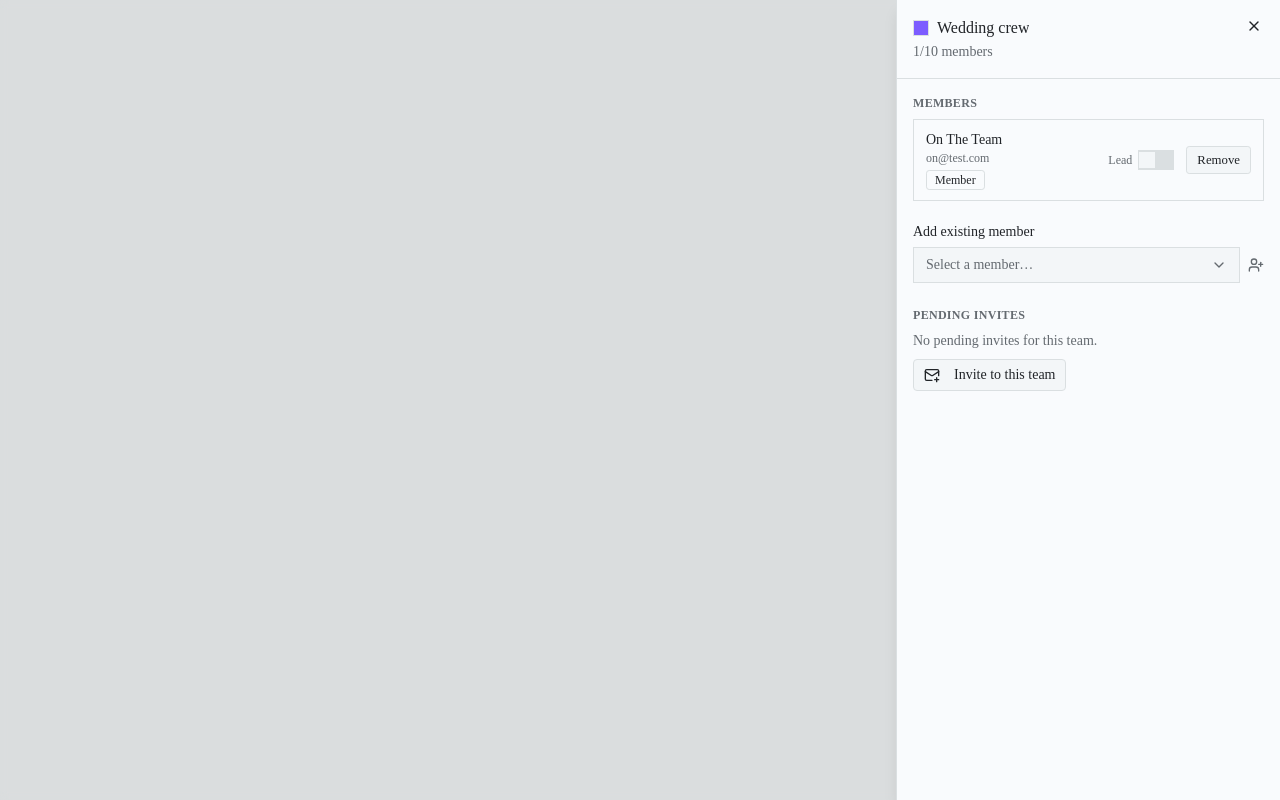
Test: TeamDetailDrawer › clicking Remove opens a confirmation dialog instead of removing immediately
The image size is (1280, 800).
Click the button "Remove".
click(1219, 160)  # box [1186,146,1251,174]
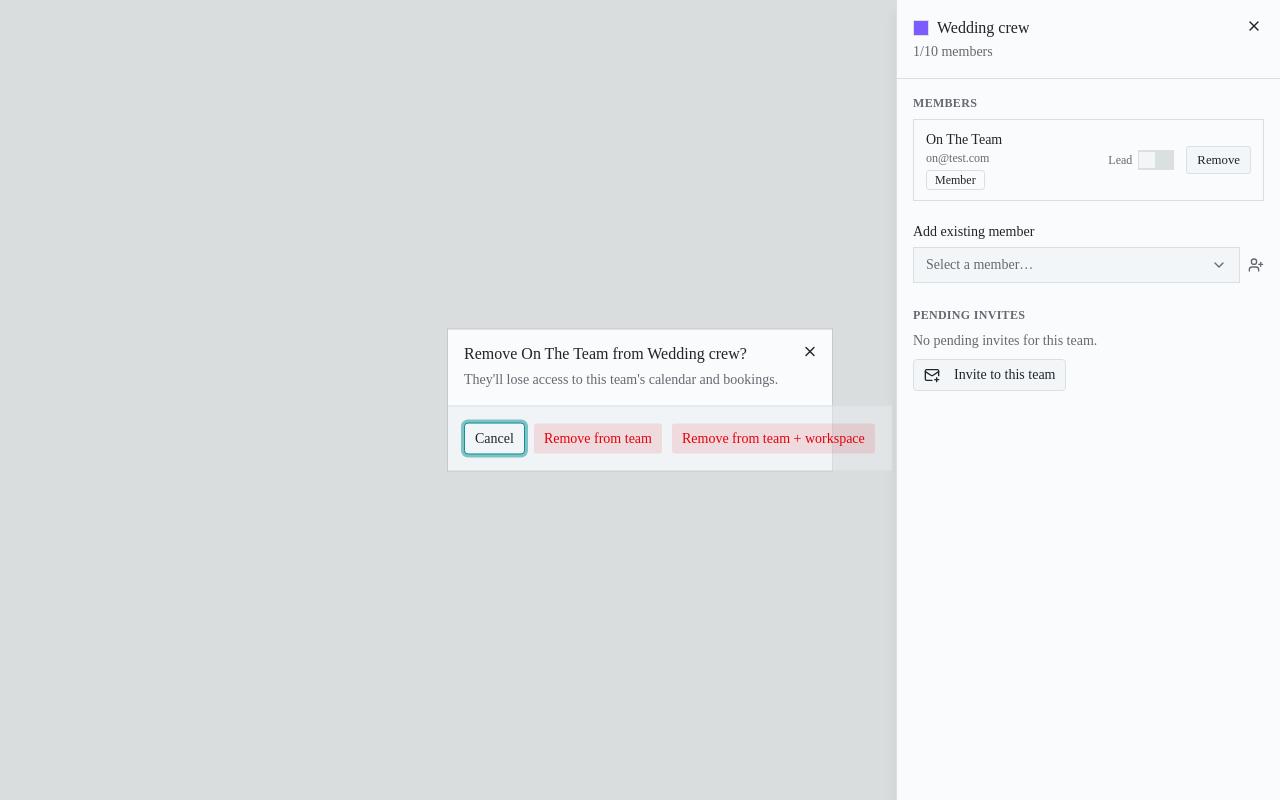
expect the heading "Remove On The Team from Wedding crew?" is shown: met, box [464,344,747,362]
